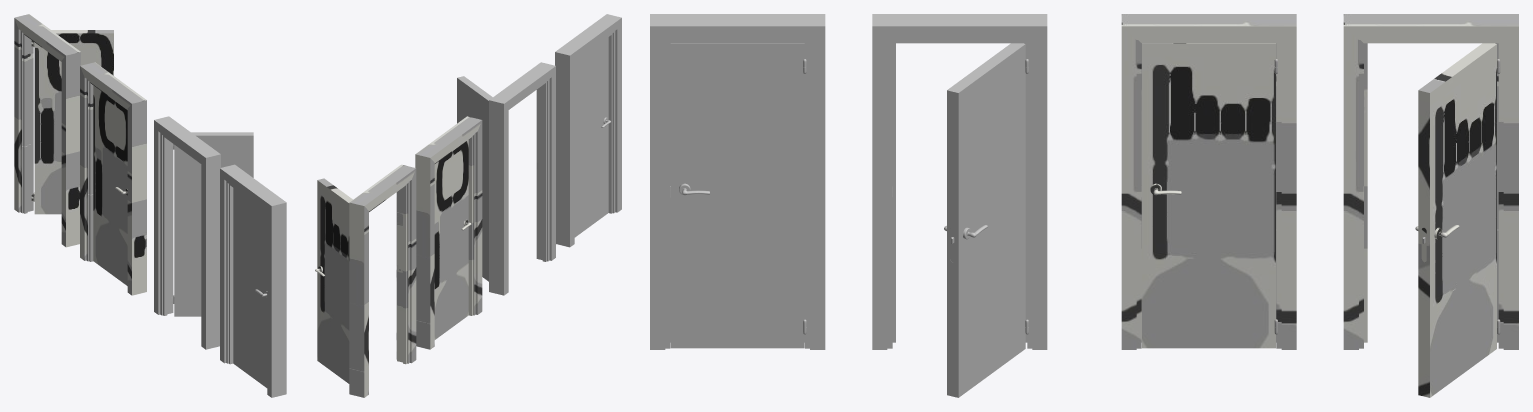
File: BossOfficeDoor.fbx
The picture shows the model from 3 angles, left to right: view 1: azimuth 30°, elevation 25°; view 2: azimuth 150°, elevation 25°; view 3: azimuth 270°, elevation 25°; orthographic projection. The views are drawn at different scales.
Visible parts, largest first — view 1: D2-Preview, D1-Preview, D2-Frame, D1-Frame, D2-Door, D1-Door; view 2: D1-Preview, D2-Preview, D2-Frame, D1-Frame, D2-Door, D1-Door; view 3: D1-Preview, D2-Preview, D1-Door, D2-Door, D1-Frame, D2-Frame.
Part boxes in pixels (left/top/right/bottom): D2-Preview: left=154, top=116, right=253, bottom=349; D1-Preview: left=14, top=14, right=113, bottom=247; D2-Frame: left=80, top=62, right=146, bottom=295; D1-Frame: left=220, top=164, right=286, bottom=397; D2-Door: left=93, top=85, right=127, bottom=285; D1-Door: left=233, top=188, right=267, bottom=387; D1-Preview: left=315, top=164, right=416, bottom=397; D2-Preview: left=457, top=62, right=555, bottom=295; D2-Frame: left=415, top=116, right=482, bottom=349; D1-Frame: left=555, top=14, right=621, bottom=247; D2-Door: left=434, top=140, right=471, bottom=339; D1-Door: left=574, top=37, right=610, bottom=237; D1-Preview: left=1343, top=14, right=1518, bottom=397; D2-Preview: left=872, top=14, right=1047, bottom=397; D1-Door: left=670, top=43, right=806, bottom=348; D2-Door: left=1142, top=43, right=1277, bottom=348; D1-Frame: left=650, top=14, right=825, bottom=349; D2-Frame: left=1121, top=14, right=1296, bottom=349.
Bounding box in the file's own units: 213 × 530 × 1290.
